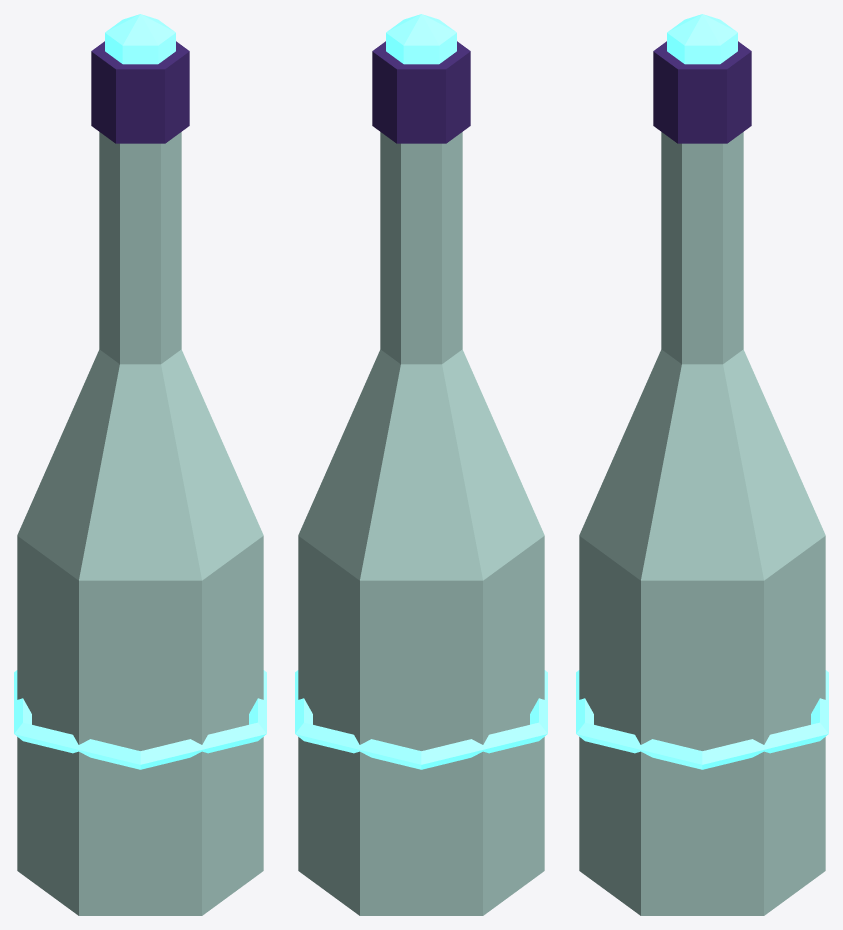
File: bottle_skin_6.glb
The picture shows the model from 3 angles, left to right: view 1: azimuth 30°, elevation 25°; view 2: azimuth 150°, elevation 25°; view 3: azimuth 270°, elevation 25°; orthographic projection.
Visible parts, largest first — view 1: bottle_skin_6; view 2: bottle_skin_6; view 3: bottle_skin_6.
Part boxes in pixels (x1,y1,x2,y2): bottle_skin_6: (14,14,266,915); bottle_skin_6: (295,14,547,915); bottle_skin_6: (576,14,828,915).
Bounding box in the file's own units: 0.6174 × 2 × 0.5347.
